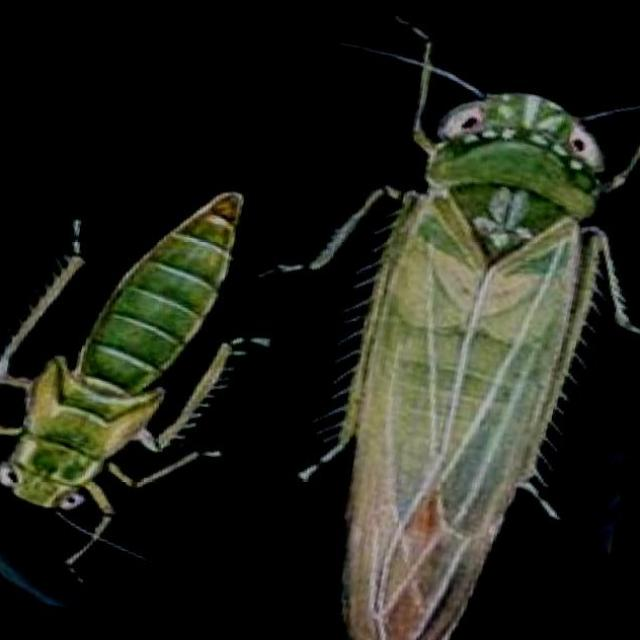green leaf hopper: (299, 44, 640, 640), (0, 191, 244, 571)
